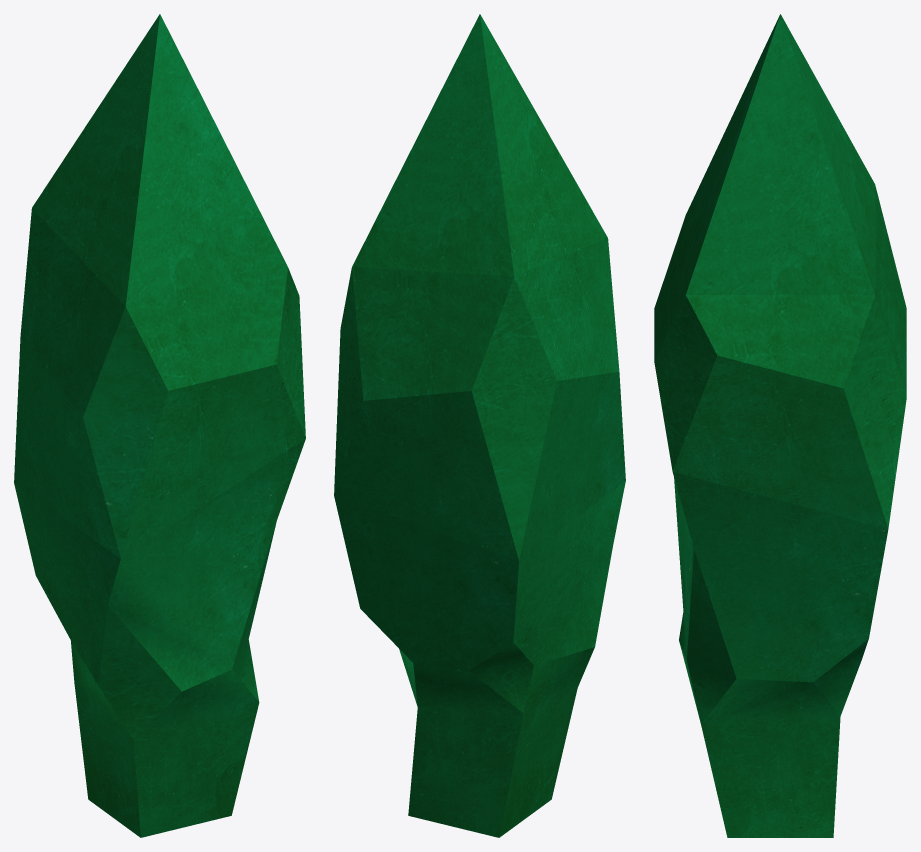
The model's file is Cristal.fbx.
3 views of the same model, side by side, from view 1: azimuth 30°, elevation 25°; view 2: azimuth 150°, elevation 25°; view 3: azimuth 270°, elevation 25° (orthographic).
Parts seen in each view (by area): view 1: pCube168; view 2: pCube168; view 3: pCube168.
Part boxes in pixels (x1=…): pCube168: x1=14, y1=14, x2=305, y2=837; pCube168: x1=334, y1=14, x2=625, y2=837; pCube168: x1=654, y1=14, x2=906, y2=837.
Size of the model in its own units: 1 by 3.5 by 1.
Materials: 1 (1 with a texture image).
